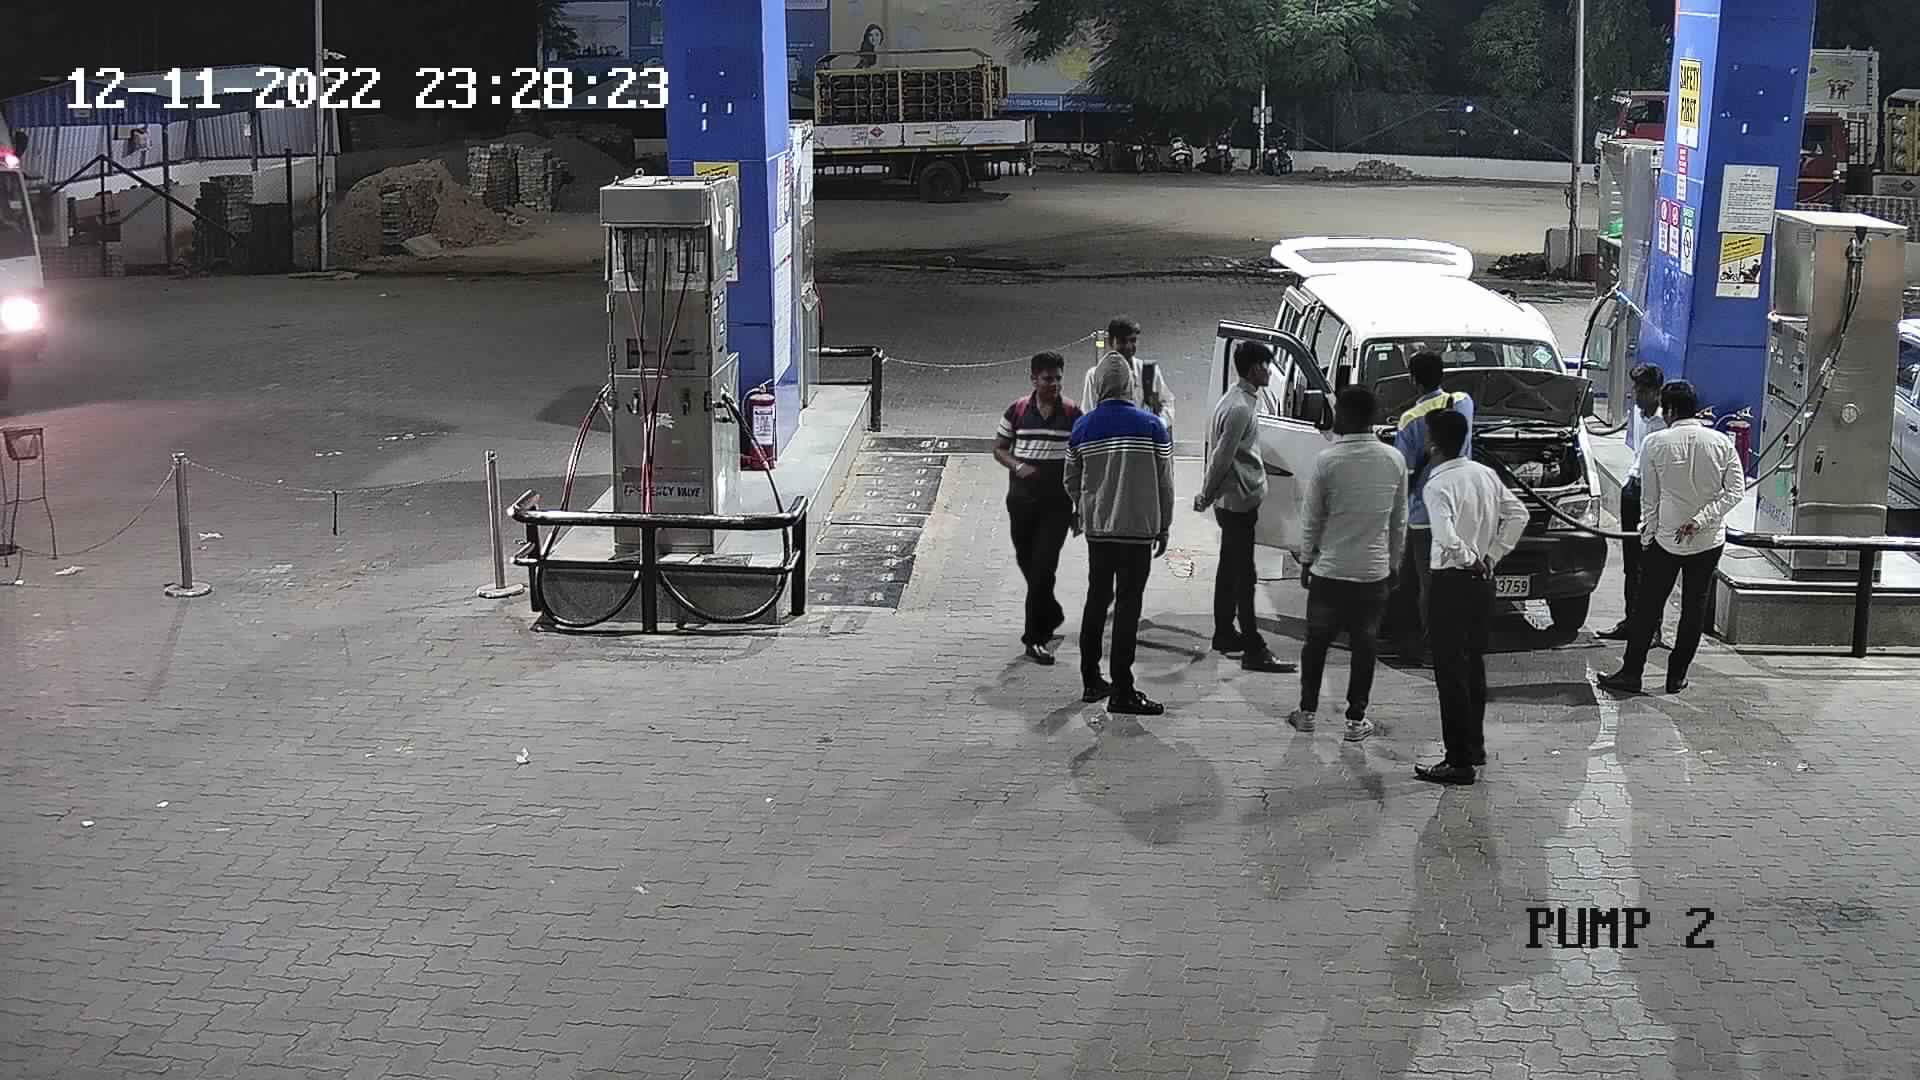Bike: (1255, 113, 1307, 179), (1158, 113, 1204, 181), (1114, 116, 1159, 181), (1197, 113, 1241, 175)
Car: (1203, 233, 1643, 618), (1870, 306, 1917, 553)
HMV: (781, 33, 1062, 203), (0, 105, 73, 431), (1779, 61, 1911, 220), (1573, 51, 1680, 208)
Others: (1375, 340, 1480, 667)
